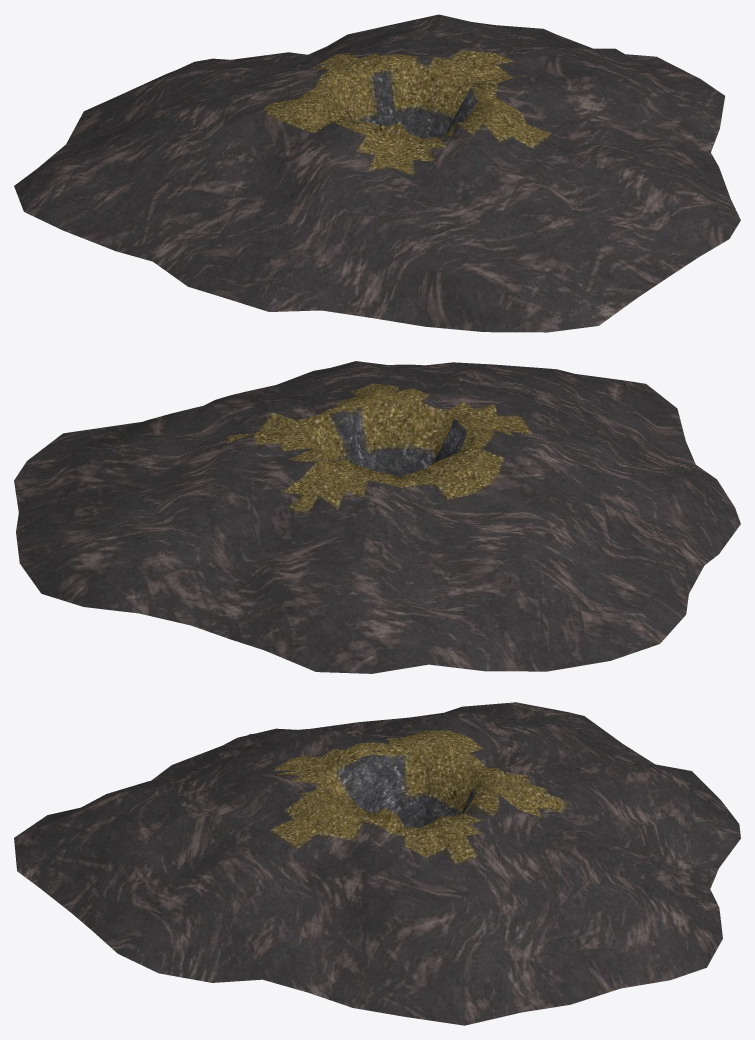
The model's file is steam_vent.glb.
3 renders of one model, top to bottom at view 1: azimuth 30°, elevation 25°; view 2: azimuth 150°, elevation 25°; view 3: azimuth 270°, elevation 25°, orthographic. The views are drawn at different scales.
Parts seen in each view (by area): view 1: steam_vent; view 2: steam_vent; view 3: steam_vent.
Boxes of the visible parts, x1,y1,x2,y2 form: steam_vent: (14, 14, 740, 332); steam_vent: (14, 361, 740, 673); steam_vent: (14, 702, 740, 1025).
Size of the model in its own units: 3.82 by 0.9032 by 3.71.
1 material, 1 textured.
